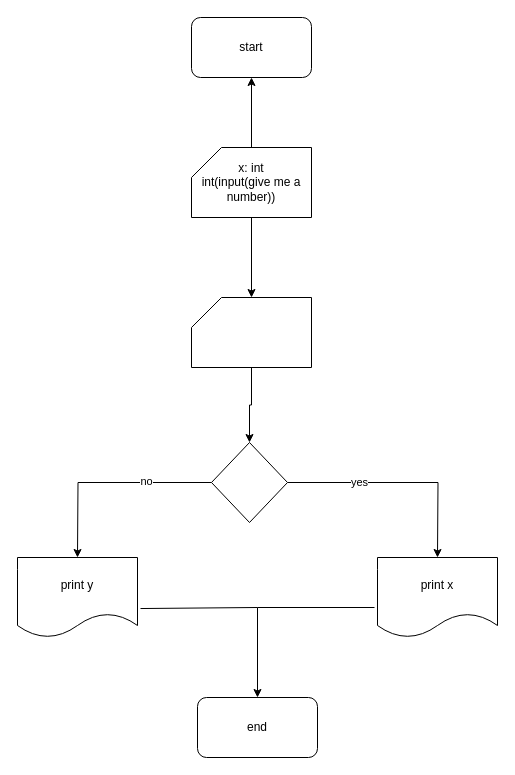
Image size: 515x775. Some labels were removed from this diagram. Each missing label, with the box of its shape:
if x > y ?: (210, 442, 288, 522)
y: int int(input(give me a number)): (190, 296, 312, 368)
